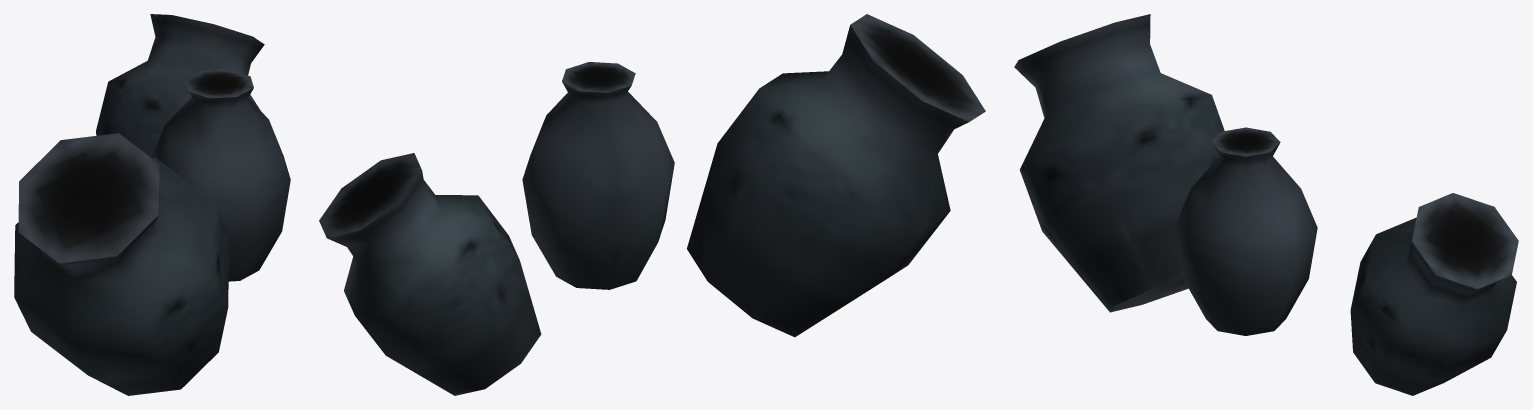
Rendered from Area08_22.fbx.
3 views of the same model, side by side, from view 1: azimuth 30°, elevation 25°; view 2: azimuth 150°, elevation 25°; view 3: azimuth 270°, elevation 25° (orthographic). The views are drawn at different scales.
Parts seen in each view (by area): view 1: Area08_22; view 2: Area08_22; view 3: Area08_22.
Boxes of the visible parts, bbox=[...] form: Area08_22: bbox=[14, 14, 290, 395]; Area08_22: bbox=[319, 14, 985, 395]; Area08_22: bbox=[1014, 14, 1518, 395].
Bounding box in the file's own units: 241 × 154 × 259.
